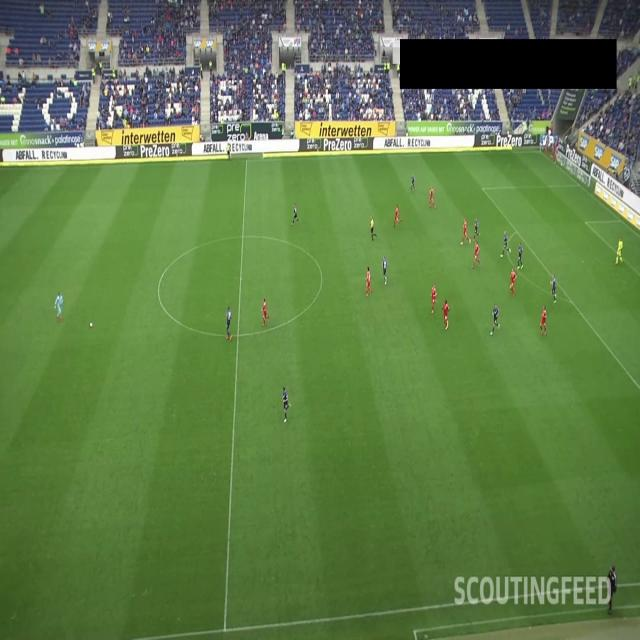ball: (88, 317, 93, 330)
player: (281, 383, 292, 425), (226, 305, 234, 343), (501, 231, 512, 258), (516, 239, 525, 271), (56, 288, 64, 323), (429, 283, 438, 314), (491, 302, 499, 335), (472, 240, 480, 270), (442, 298, 450, 328), (462, 214, 469, 248), (261, 298, 269, 327), (365, 264, 372, 294), (541, 305, 548, 334), (473, 212, 479, 242), (617, 237, 623, 267), (382, 257, 388, 286), (552, 272, 558, 301), (394, 204, 401, 227), (428, 187, 434, 213), (510, 267, 515, 295), (292, 201, 298, 222), (410, 172, 416, 192)
